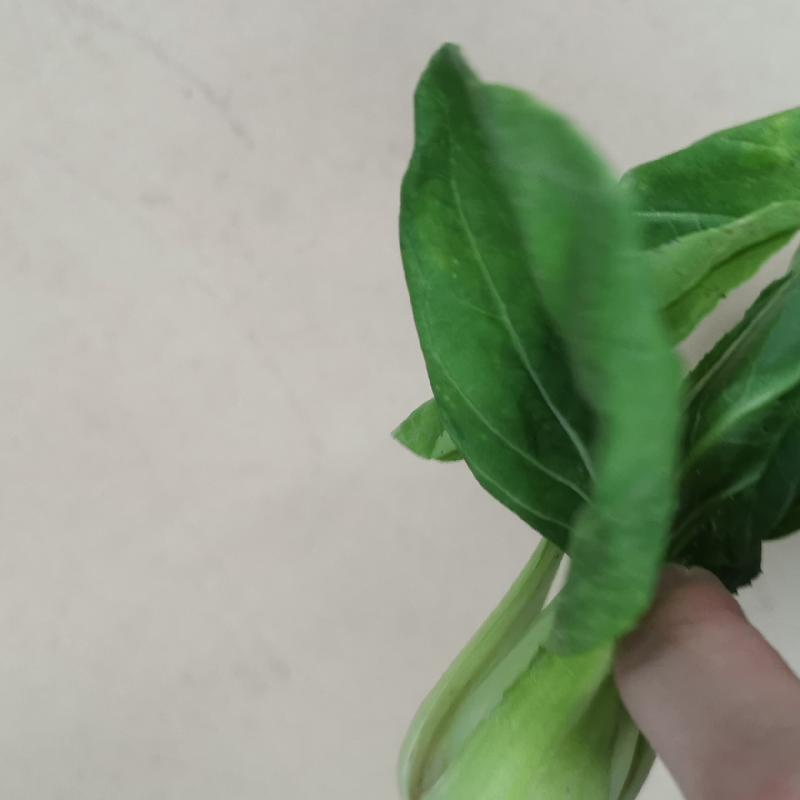green vegatable: (376, 34, 800, 799)
